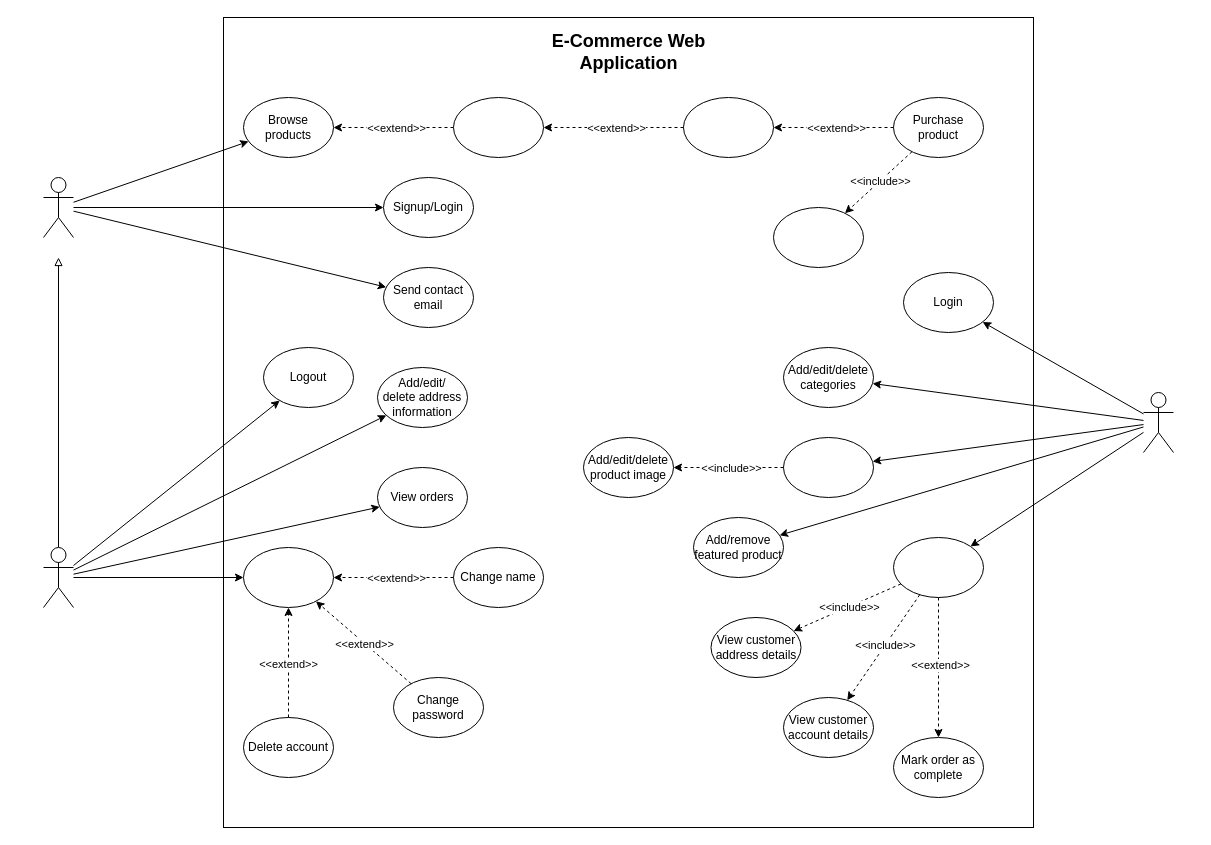
Some shapes in this 1211 by 845 pixel diagram are drawn without their labels. Each missing label, with the centre of its shape:
Access account settings: point 288,577
Add product to cart: point 728,127
Add/edit/delete products: point 828,467
Add/Use address information: point 818,237
Administrator: point 1158,422
Guest: point 58,207
Logged In User: point 58,577
View customer orders: point 938,567
View product details: point 498,127
